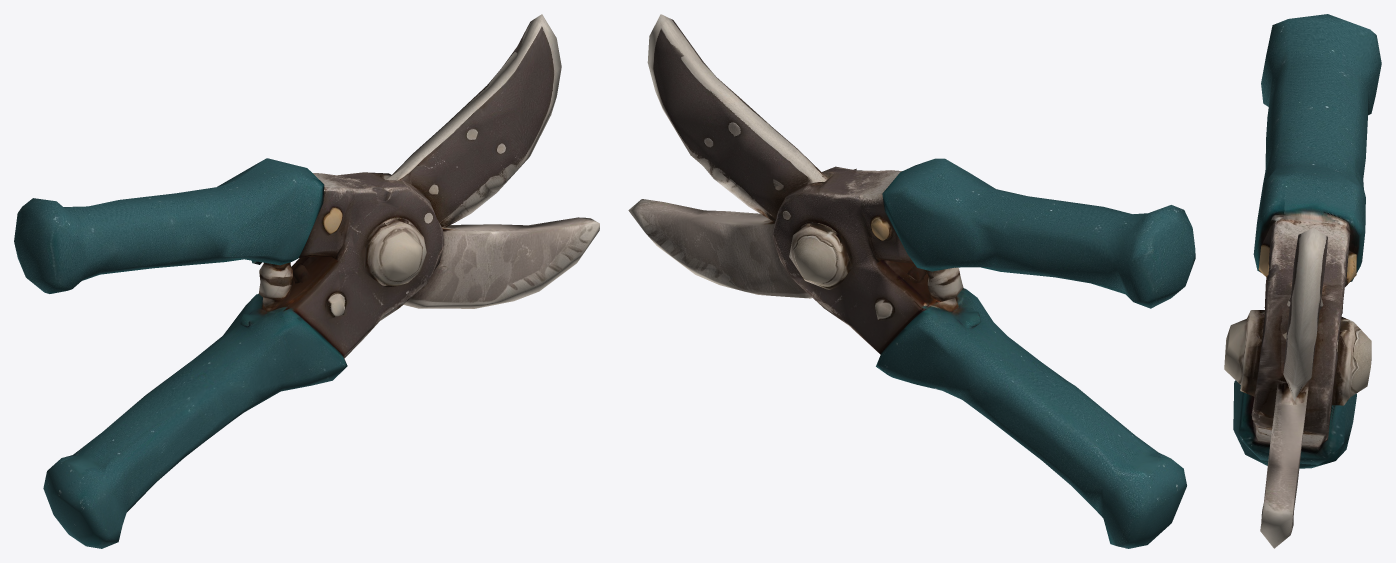
File: weapon_pruner_1500.glb
The picture shows the model from 3 angles, left to right: view 1: azimuth 30°, elevation 25°; view 2: azimuth 150°, elevation 25°; view 3: azimuth 270°, elevation 25°; orthographic projection. The views are drawn at different scales.
Visible parts, largest first — view 1: tripo_node_afa5027a-3a95-4366-9d6a-0256fe8b6da3; view 2: tripo_node_afa5027a-3a95-4366-9d6a-0256fe8b6da3; view 3: tripo_node_afa5027a-3a95-4366-9d6a-0256fe8b6da3.
Part boxes in pixels (<box>): tripo_node_afa5027a-3a95-4366-9d6a-0256fe8b6da3: <box>14,14,599,548</box>; tripo_node_afa5027a-3a95-4366-9d6a-0256fe8b6da3: <box>628,14,1195,548</box>; tripo_node_afa5027a-3a95-4366-9d6a-0256fe8b6da3: <box>1224,14,1381,548</box>.
Size of the model in its own units: 0.9826 by 0.6953 by 0.1893.
1 material, 1 textured.
